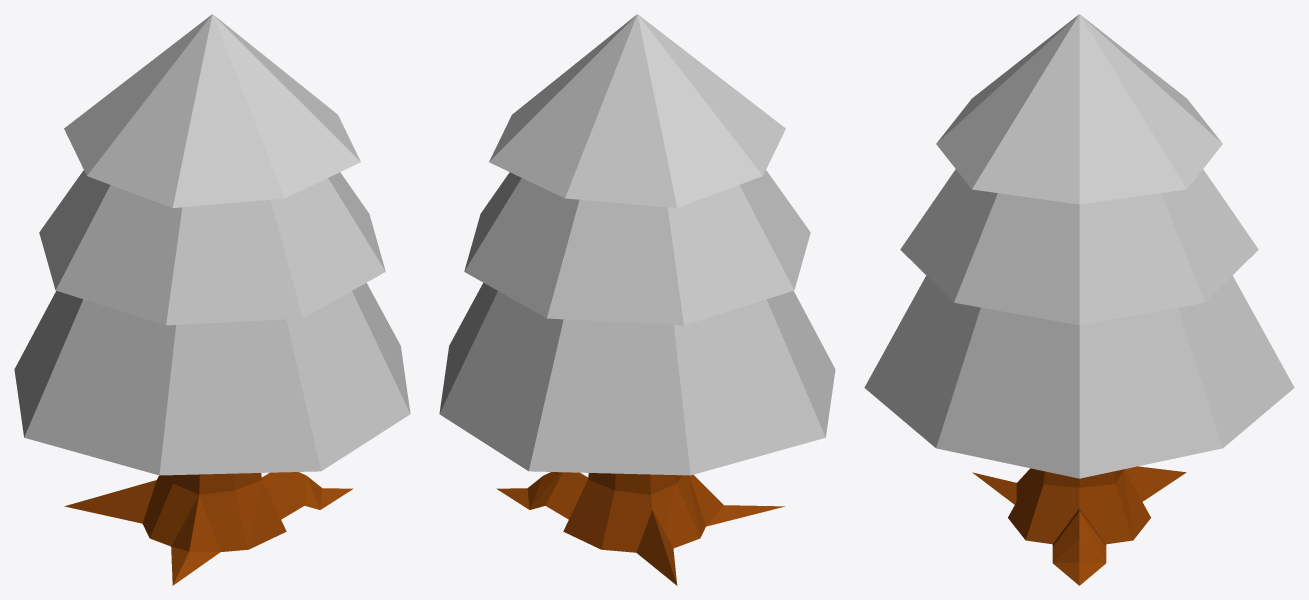
File: tree2.obj
3 views of the same model, side by side, from view 1: azimuth 30°, elevation 25°; view 2: azimuth 150°, elevation 25°; view 3: azimuth 270°, elevation 25° (orthographic).
Visible parts, largest first — view 1: tree2_back; view 2: tree2_back; view 3: tree2_back.
Part boxes in pixels (x1,y1,x2,y2): tree2_back: (14, 14, 410, 585); tree2_back: (439, 14, 835, 585); tree2_back: (864, 14, 1294, 585).
Bounding box in the file's own units: 1.92 × 2.48 × 1.92.
